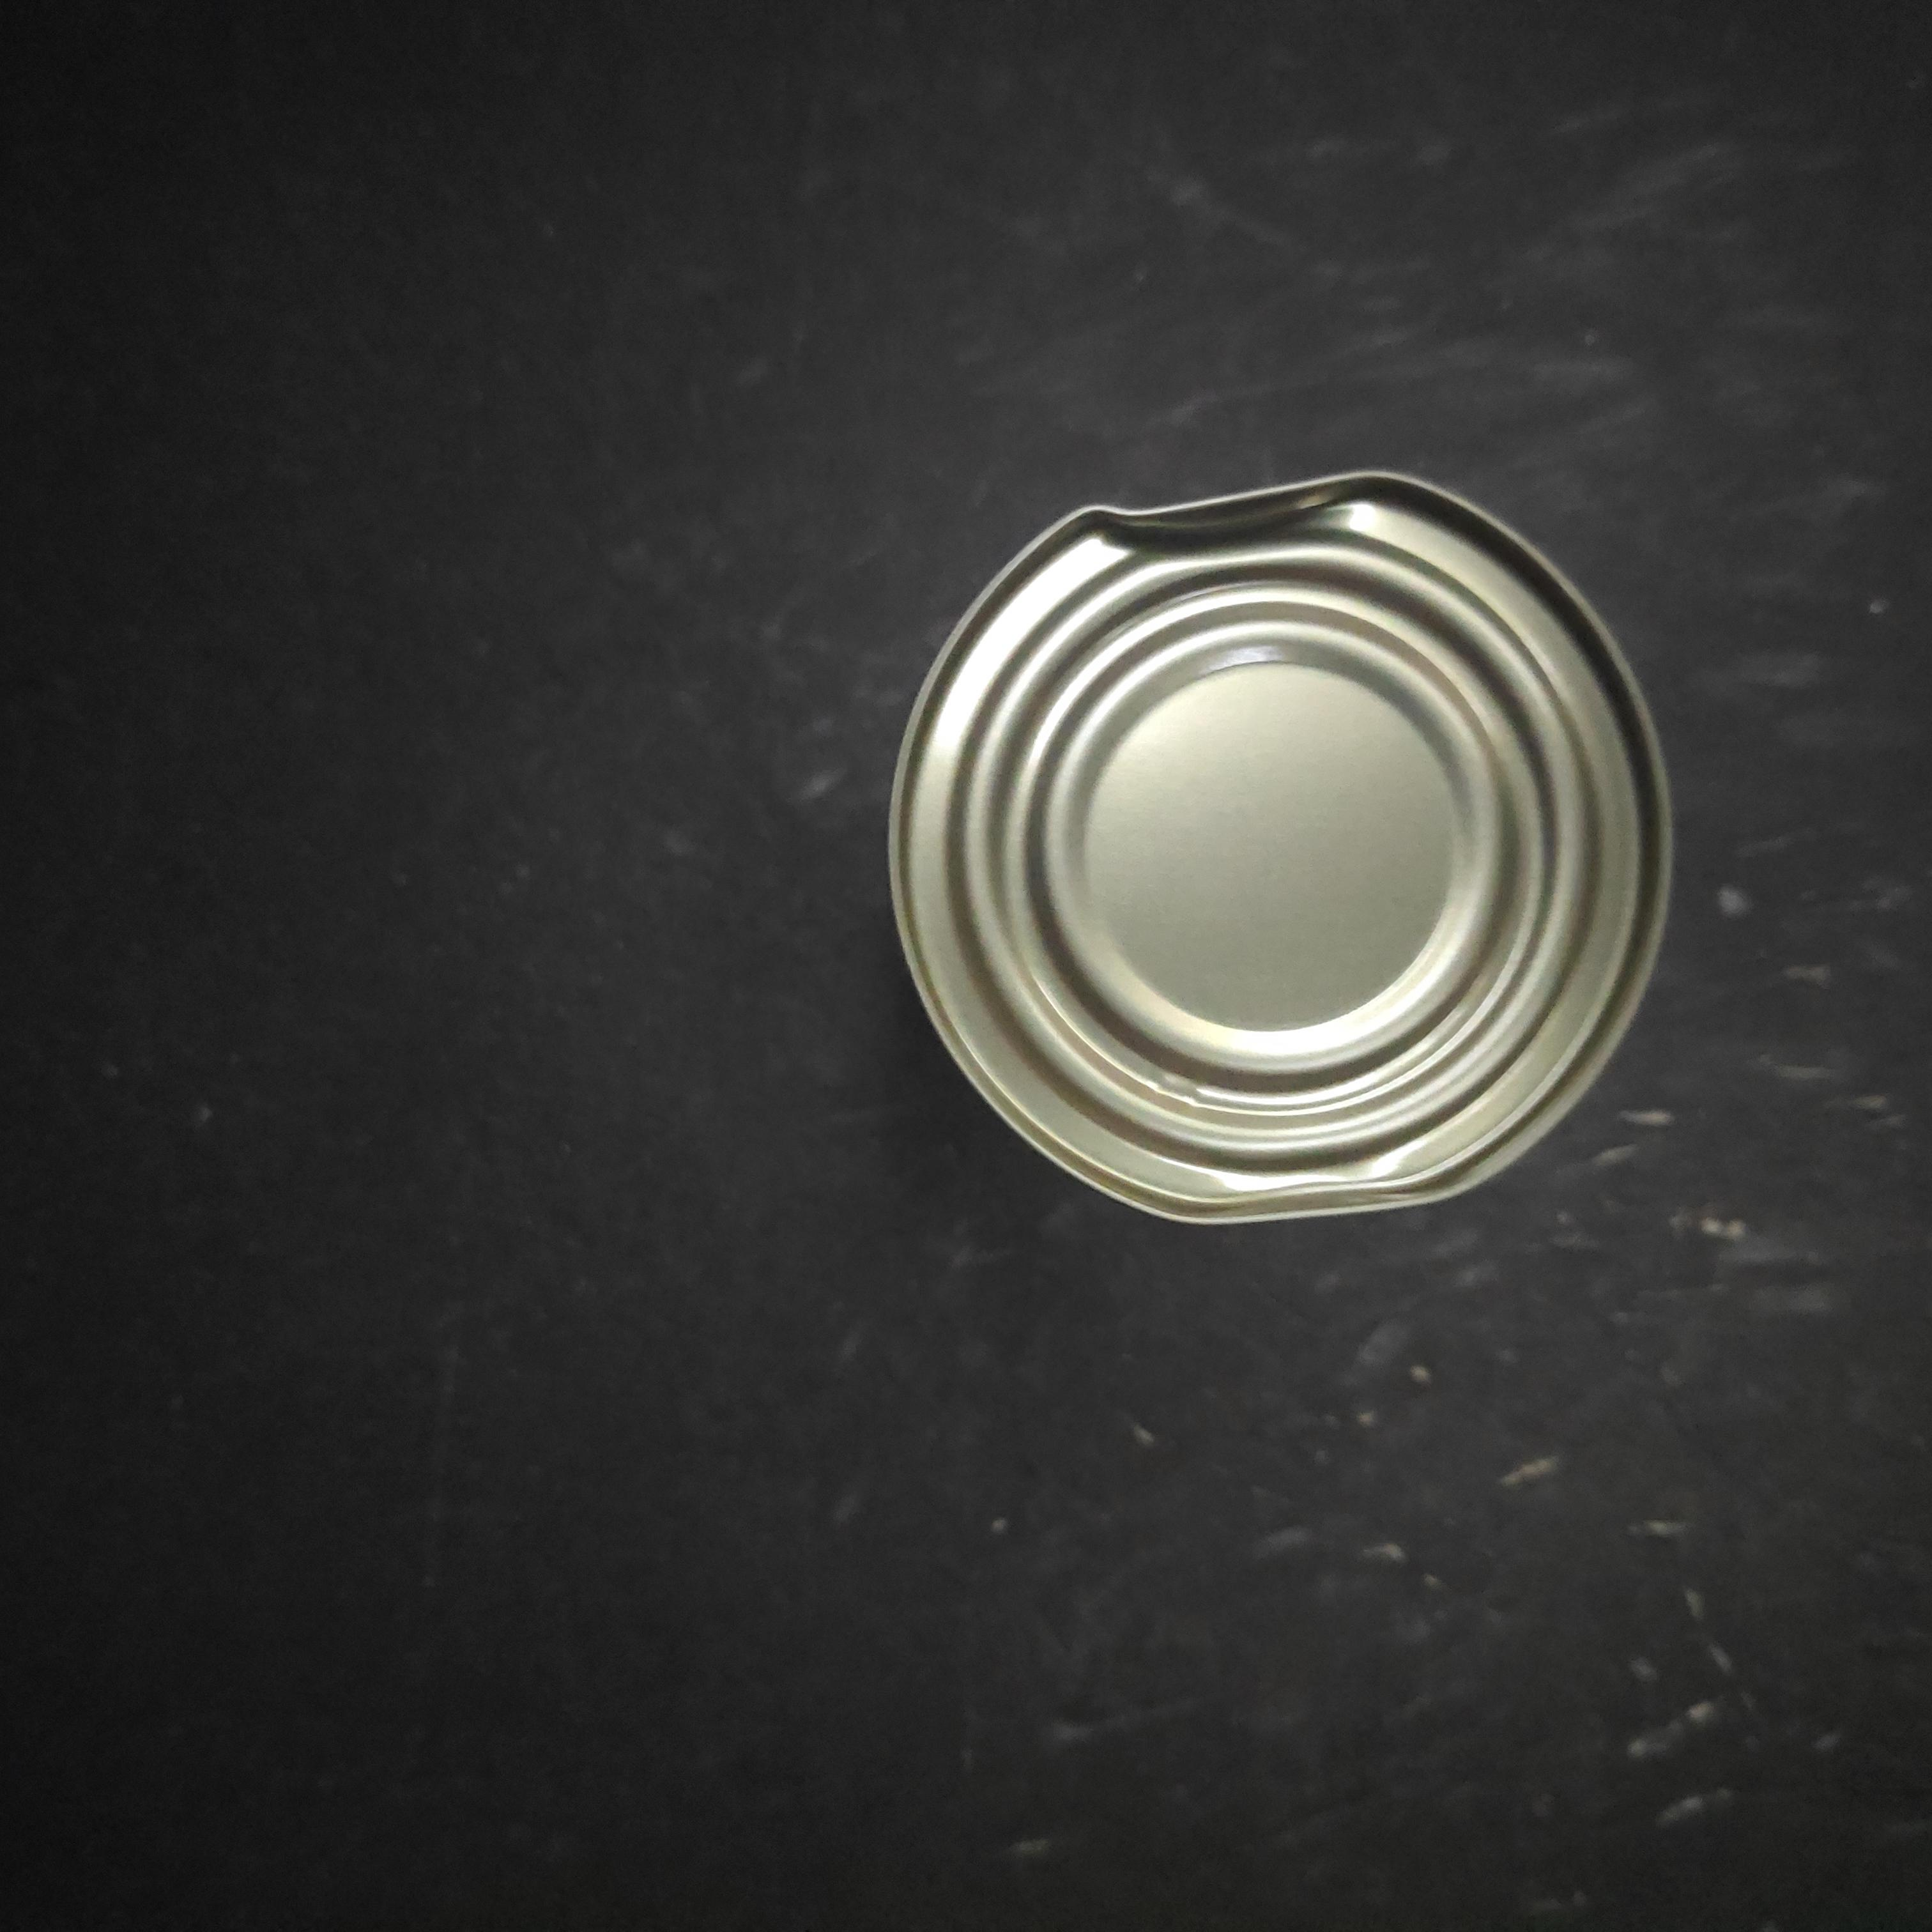Minor Defect: (241, 690, 1063, 1488)
